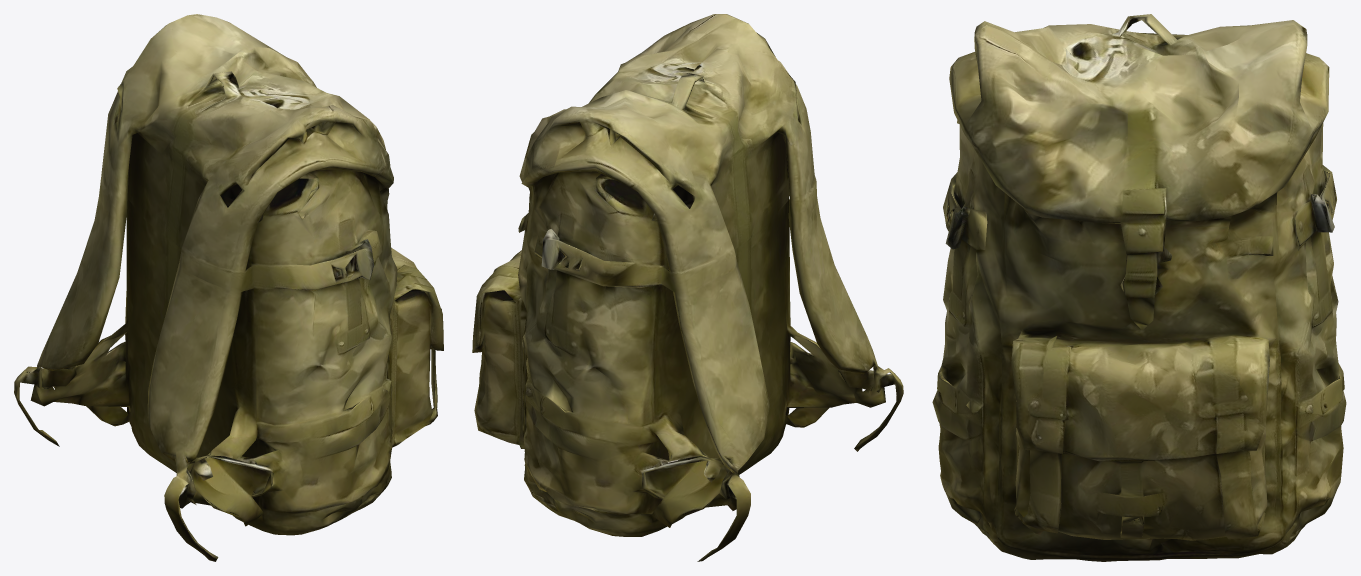
File: bp_medium.glb
3 renders of one model, left to right at view 1: azimuth 30°, elevation 25°; view 2: azimuth 150°, elevation 25°; view 3: azimuth 270°, elevation 25°, orthographic. The views are drawn at different scales.
Visible parts, largest first — view 1: tripo_node_f6095b59-9757-48af-b0da-df3ba2f2914f; view 2: tripo_node_f6095b59-9757-48af-b0da-df3ba2f2914f; view 3: tripo_node_f6095b59-9757-48af-b0da-df3ba2f2914f.
Boxes of the visible parts, bbox=[...] form: tripo_node_f6095b59-9757-48af-b0da-df3ba2f2914f: bbox=[14, 14, 443, 561]; tripo_node_f6095b59-9757-48af-b0da-df3ba2f2914f: bbox=[472, 14, 903, 561]; tripo_node_f6095b59-9757-48af-b0da-df3ba2f2914f: bbox=[932, 14, 1346, 561].
Bounding box in the file's own units: 0.7896 × 0.9815 × 0.7459.
1 material, 1 textured.
